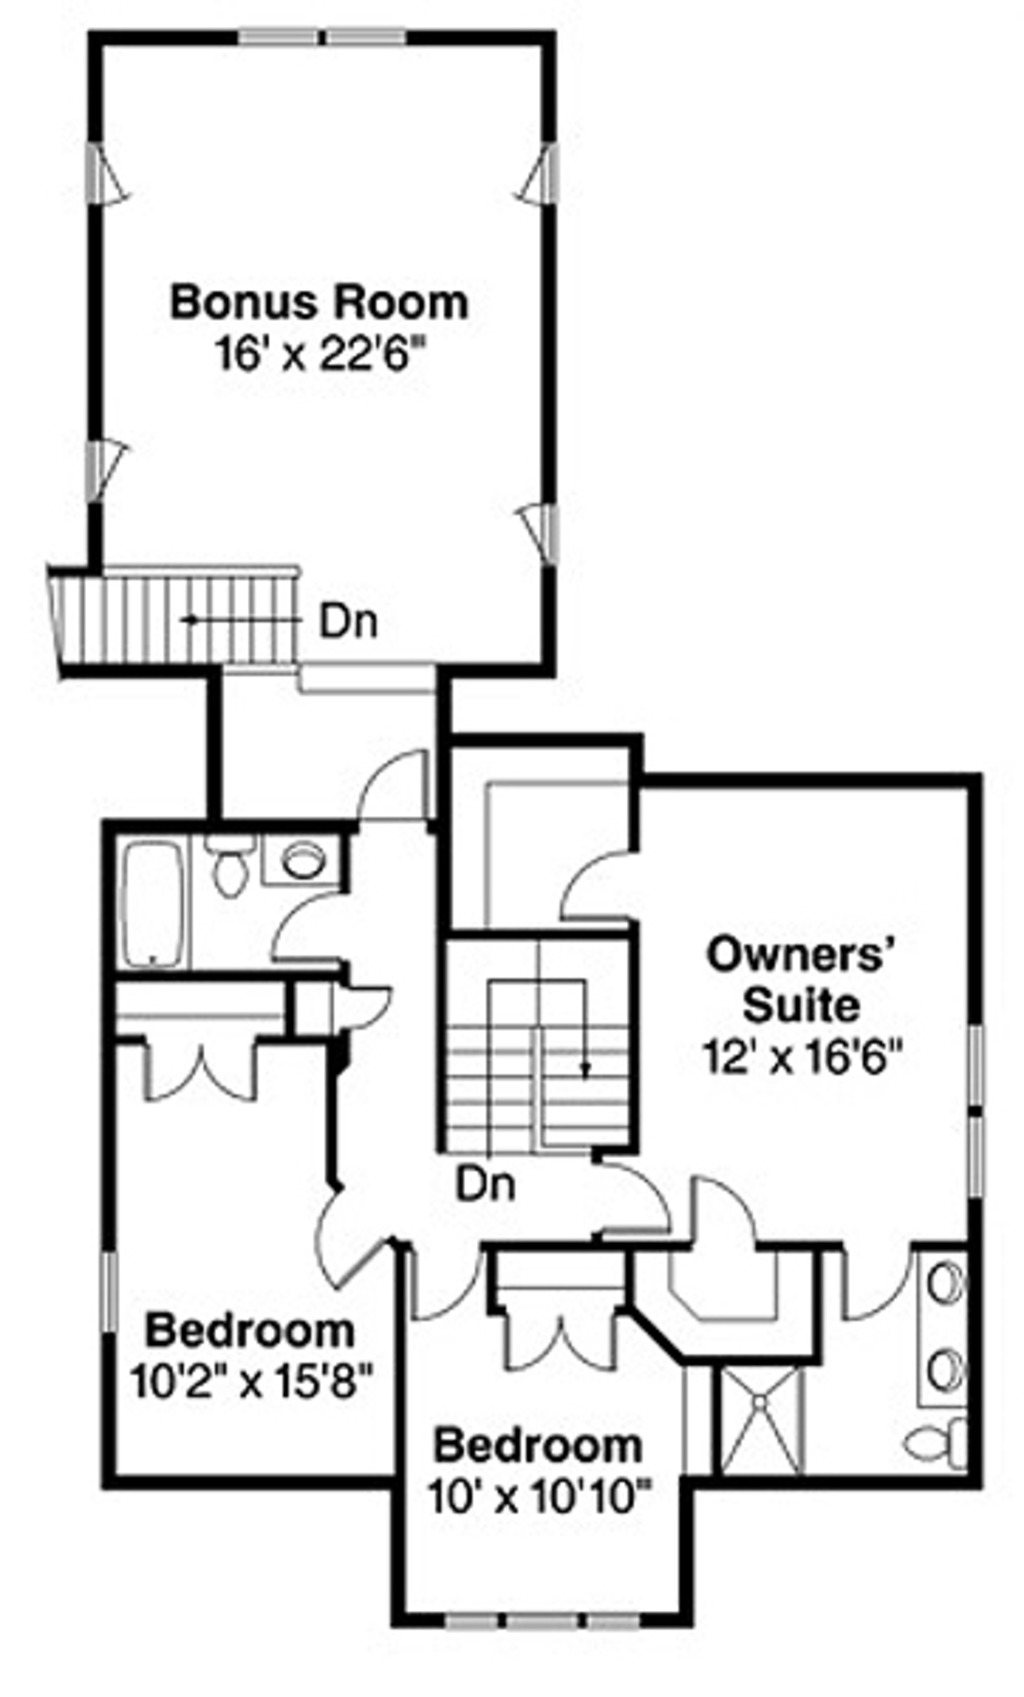door: (486, 1292, 631, 1382), (531, 832, 646, 926), (397, 1234, 498, 1338), (667, 1171, 774, 1268), (133, 1033, 275, 1105), (341, 736, 444, 834), (309, 1169, 377, 1301), (587, 1148, 679, 1242), (261, 882, 351, 971), (78, 141, 161, 229), (75, 412, 141, 508), (498, 495, 572, 568), (319, 975, 396, 1045), (840, 1236, 906, 1318), (516, 148, 584, 222)
large_sink: (889, 1417, 982, 1469), (196, 833, 251, 908)
small_sink: (909, 1247, 967, 1405), (256, 832, 338, 889)
stairs: (435, 936, 668, 1159), (21, 554, 318, 682)
tub: (102, 824, 189, 1017)
window: (417, 1602, 668, 1647), (956, 1019, 995, 1213), (88, 1242, 133, 1343)
